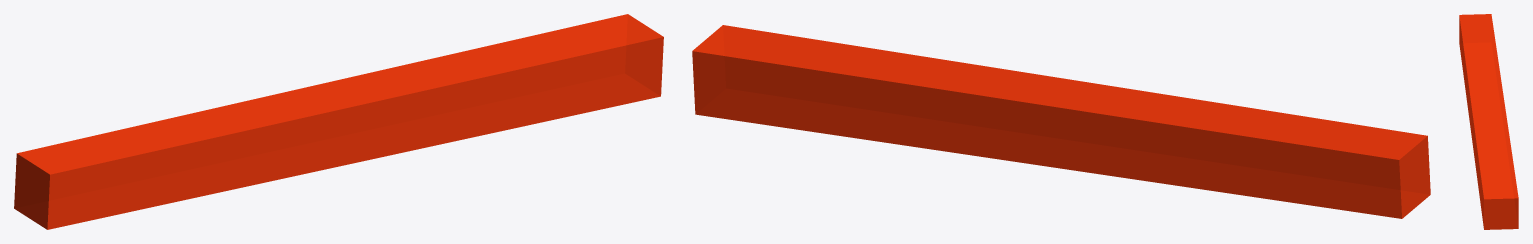
The model's file is Event_421278790_EErechit_59.fbx.
The picture shows the model from 3 angles, left to right: view 1: azimuth 30°, elevation 25°; view 2: azimuth 150°, elevation 25°; view 3: azimuth 270°, elevation 25°; orthographic projection. The views are drawn at different scales.
Parts seen in each view (by area): view 1: Model; view 2: Model; view 3: Model.
Part boxes in pixels (left/top/right/bottom): Model: left=14, top=14, right=663, bottom=229; Model: left=692, top=25, right=1430, bottom=218; Model: left=1459, top=14, right=1518, bottom=229.
Bounding box in the file's own units: 0.8929 × 0.1242 × 0.1338.
